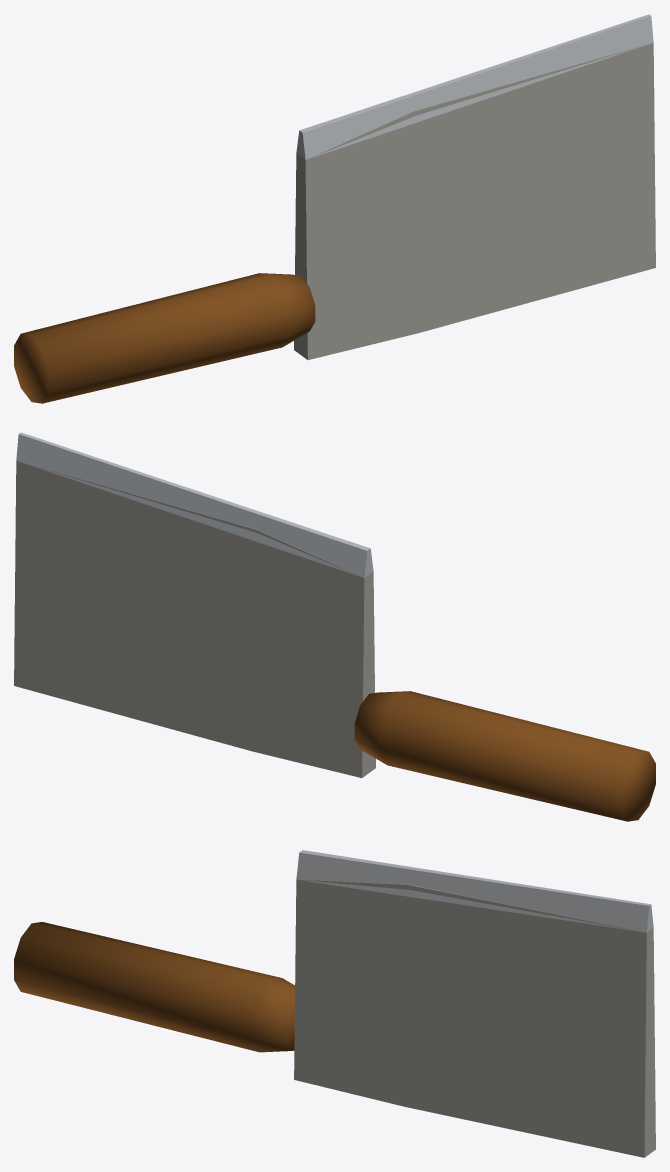
File: held_cleaver.glb
3 renders of one model, top to bottom at view 1: azimuth 30°, elevation 25°; view 2: azimuth 150°, elevation 25°; view 3: azimuth 330°, elevation 25°, orthographic.
Visible parts, largest first — view 1: blade, grip, edge; view 2: blade, grip, edge; view 3: blade, grip, edge.
Boxes of the visible parts, x1=… form: blade: x1=294, y1=43, x2=655, y2=359; grip: x1=14, y1=273, x2=315, y2=403; edge: x1=296, y1=14, x2=653, y2=159; blade: x1=14, y1=461, x2=375, y2=777; grip: x1=354, y1=691, x2=655, y2=821; edge: x1=16, y1=432, x2=373, y2=577; blade: x1=294, y1=879, x2=655, y2=1157; grip: x1=14, y1=922, x2=294, y2=1052; edge: x1=296, y1=850, x2=653, y2=932.
Size of the model in its own units: 0.31 by 0.122 by 0.0323.
